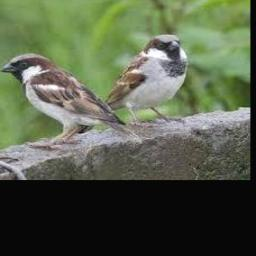Sparrow: (0, 53, 145, 146), (74, 34, 188, 133)
